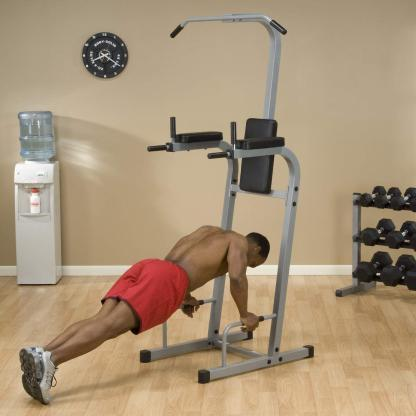chinning dipping: (142, 12, 315, 384)
